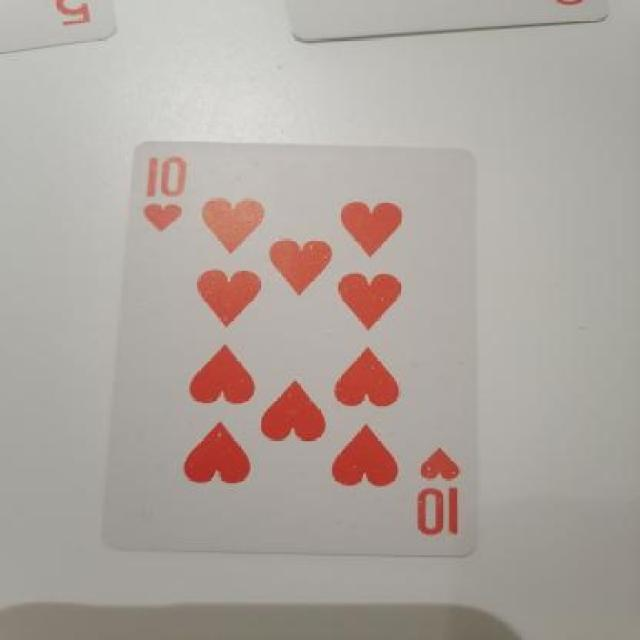10H: (411, 446, 489, 559), (128, 148, 214, 241)
